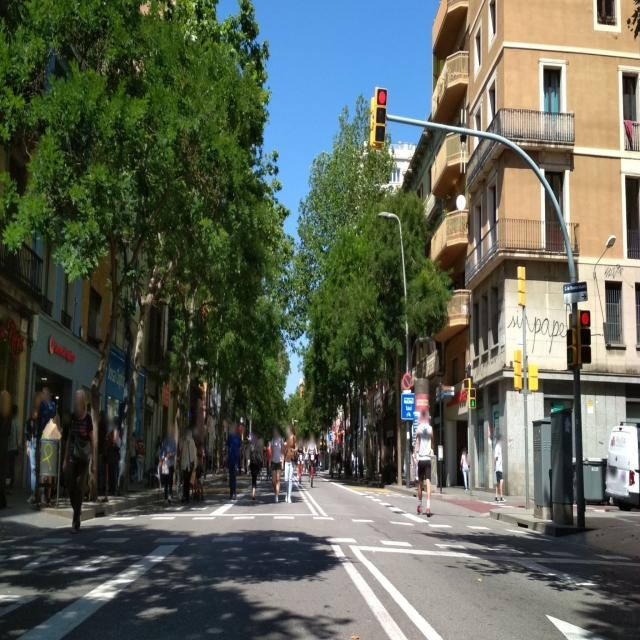car: (605, 420, 640, 512)
